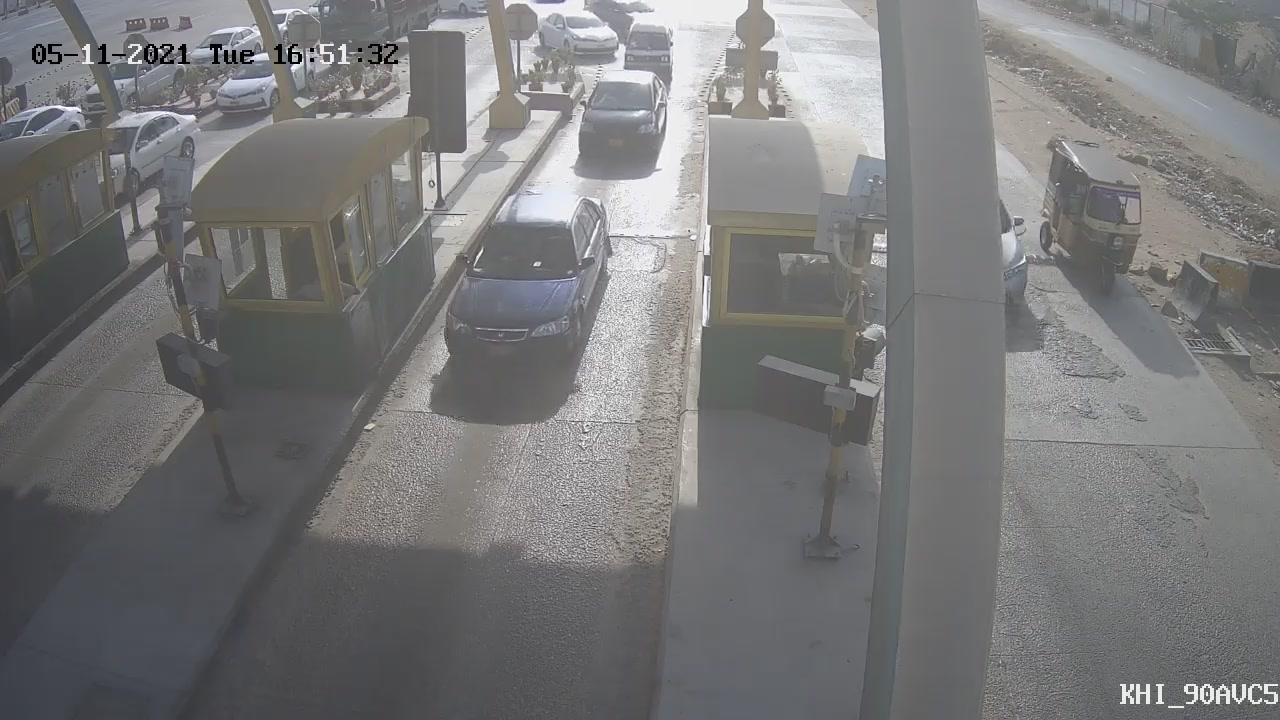F1: (418, 178, 631, 394), (557, 60, 687, 182)
